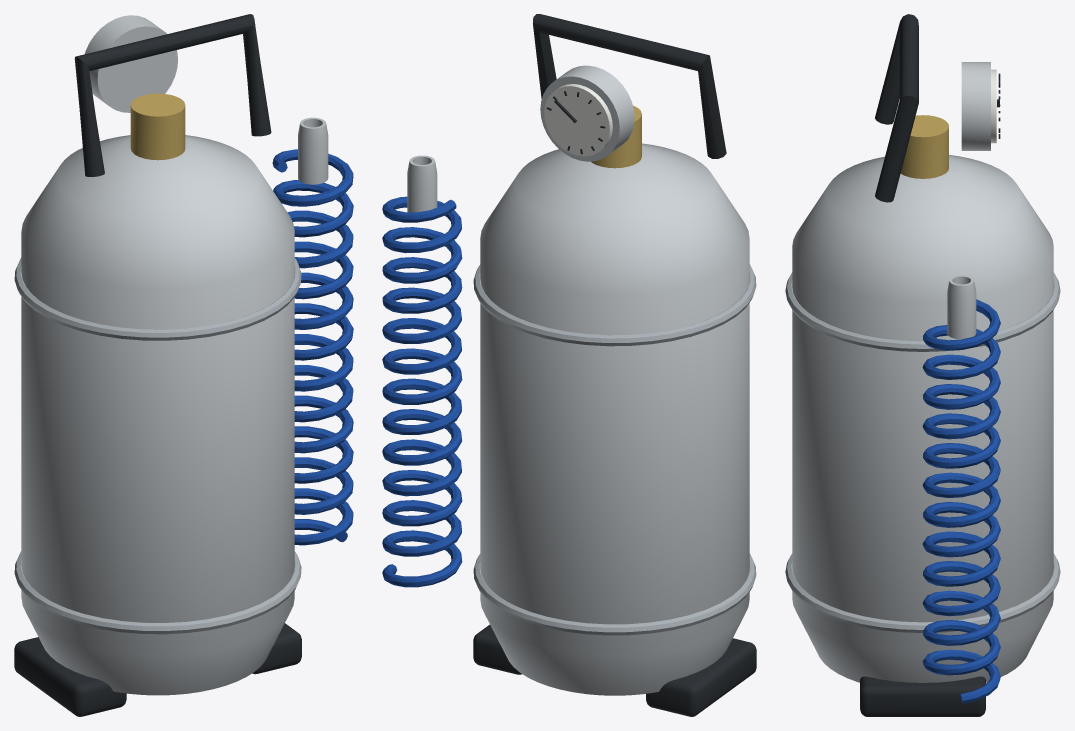
File: pressure_vessel_device.glb
3 views of the same model, side by side, from view 1: azimuth 30°, elevation 25°; view 2: azimuth 150°, elevation 25°; view 3: azimuth 270°, elevation 25° (orthographic). The views are drawn at different scales.
Visible parts, largest first — view 1: pressure_vessel_device; view 2: pressure_vessel_device; view 3: pressure_vessel_device.
Boxes of the visible parts, bbox=[...] form: pressure_vessel_device: bbox=[14, 14, 353, 716]; pressure_vessel_device: bbox=[382, 14, 756, 716]; pressure_vessel_device: bbox=[785, 14, 1060, 716].
Size of the model in its own units: 0.4236 by 0.7709 by 0.3145.
